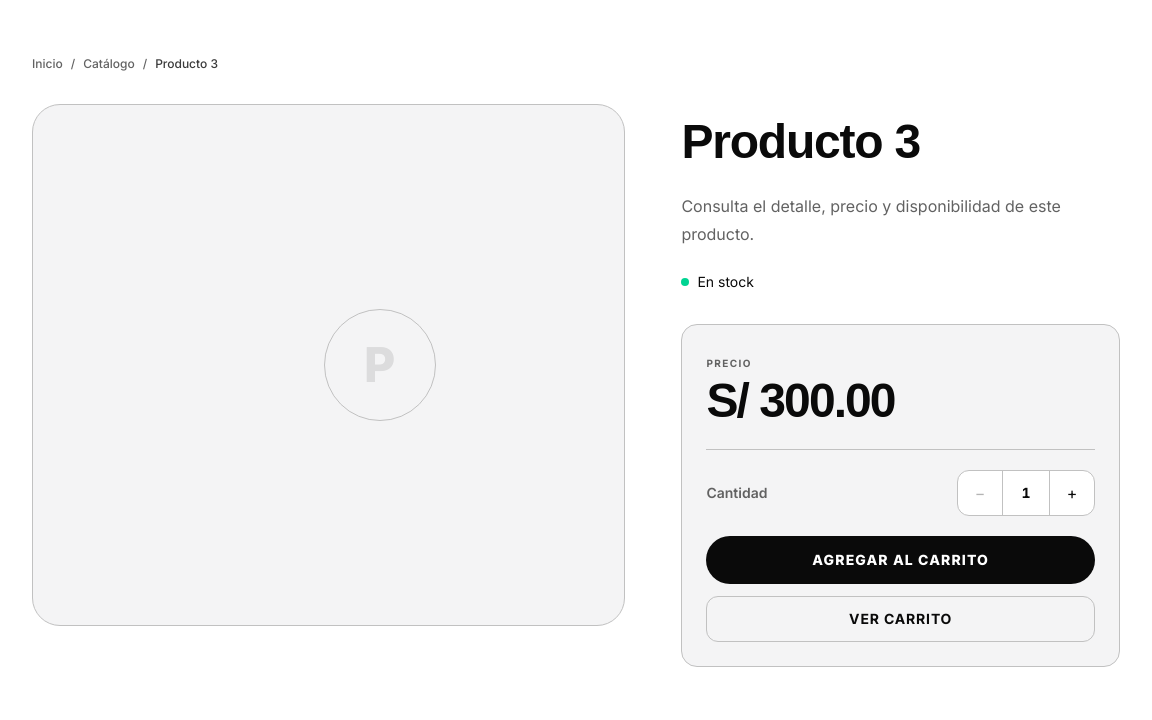
agregar al carrito desde la ficha sale con el token de la sesión
Click the button "Agregar al carrito": x=901, y=560 [706, 536, 1095, 584]
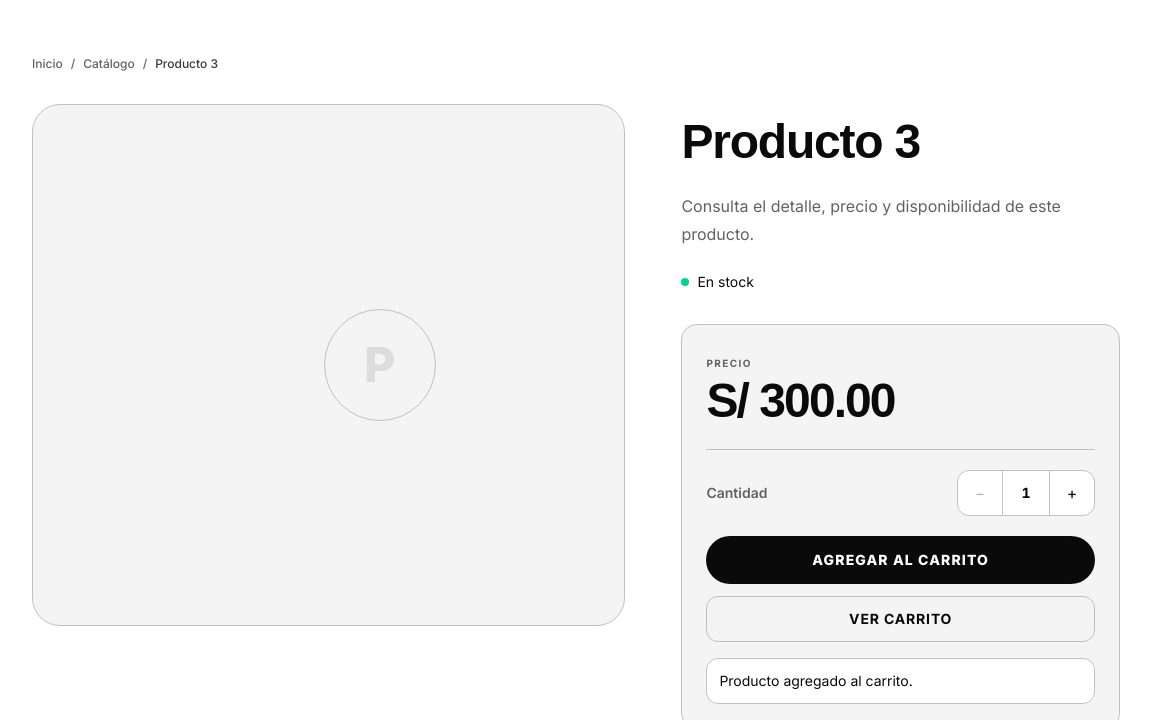
Expected: the text "Producto agregado al carrito." is shown, [706, 658, 1095, 704]
